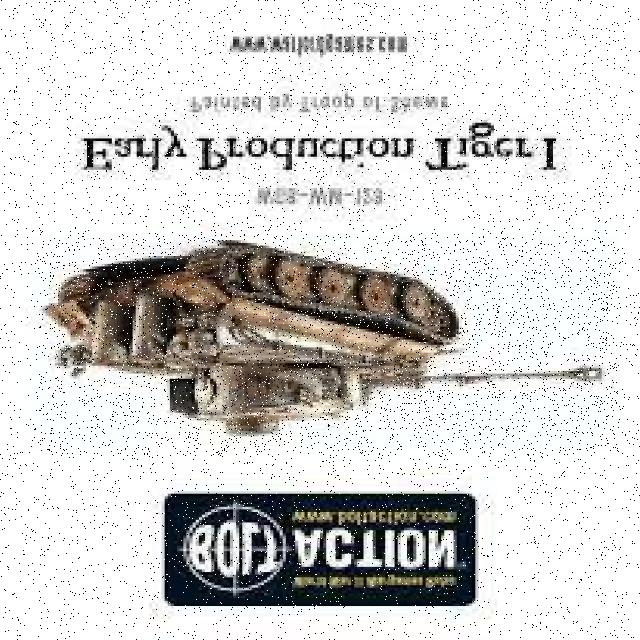MIL_MBT: (37, 234, 623, 455)
